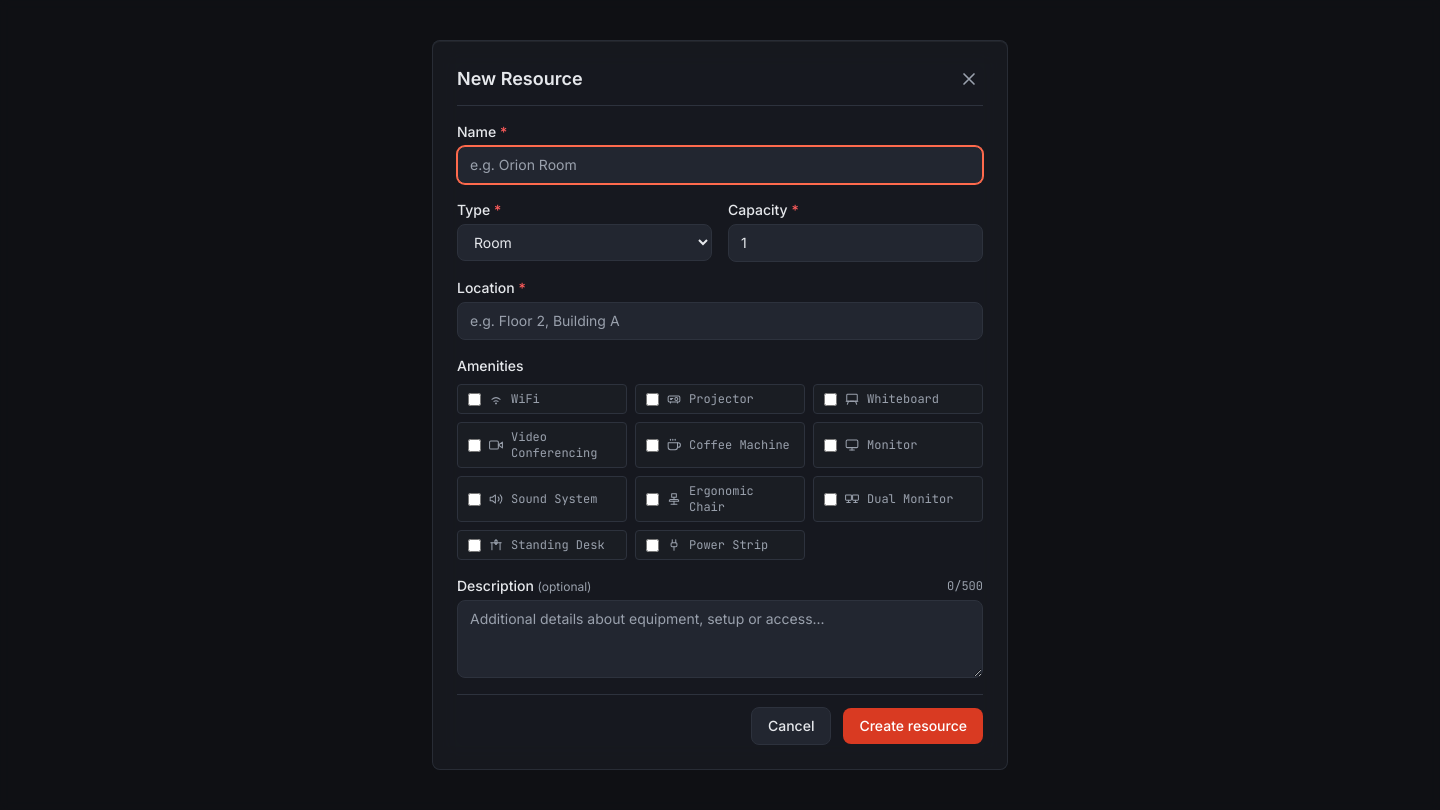
Test: ResourceForm component › validates required fields on submit and focuses the first invalid field
The width and height of the screenshot is (1440, 810).
Step 1. Click the button "Create resource" → {"x": 913, "y": 726}, box [844,708,983,744]
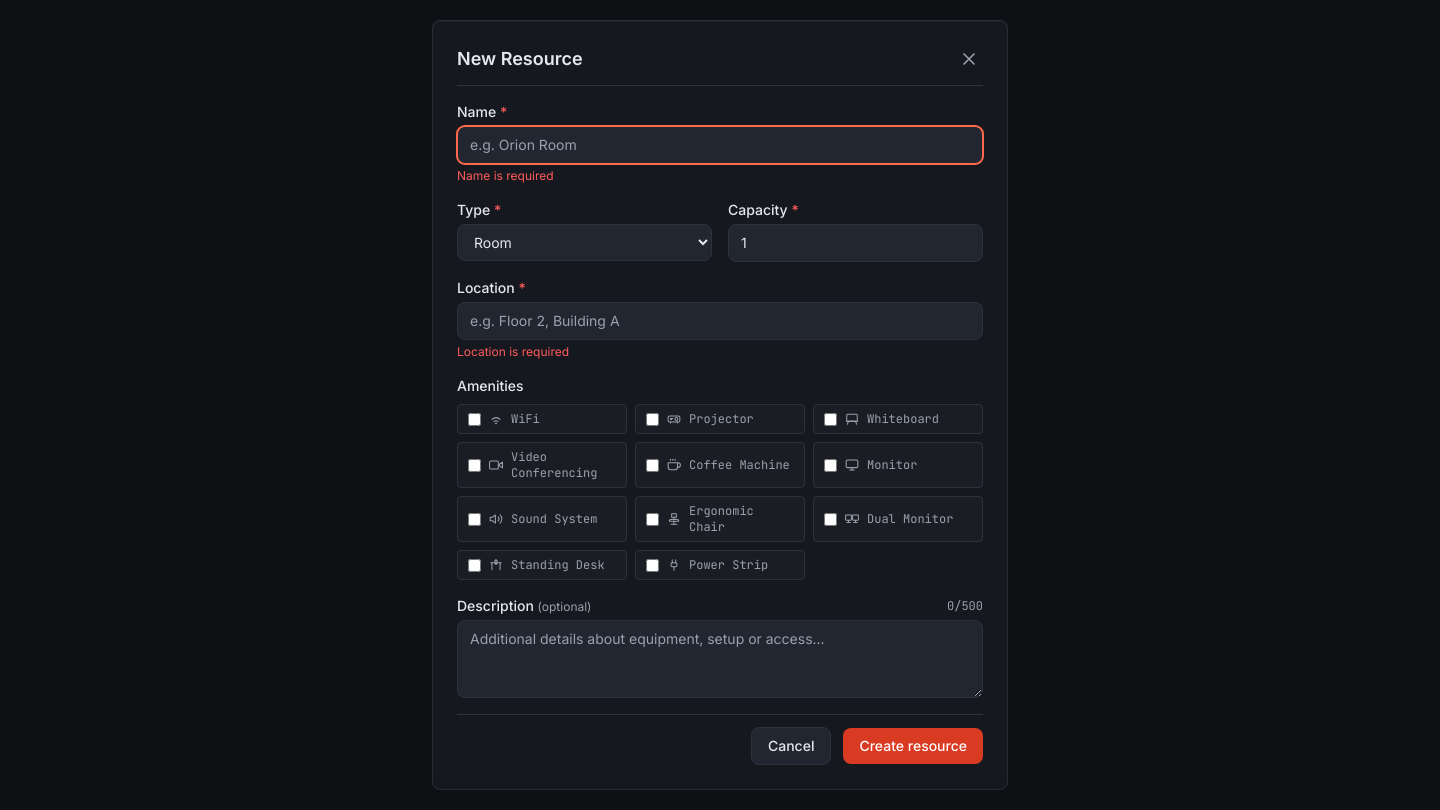
Check: the text "Name is required" is shown, box [457,168,554,183]
